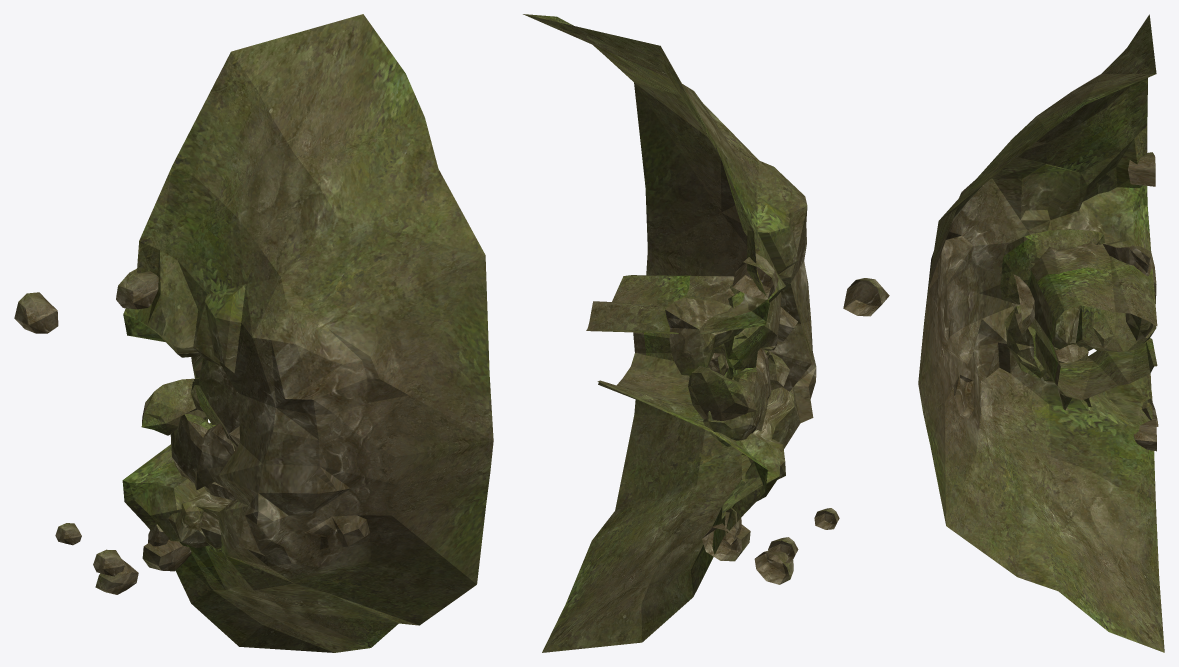
The model's file is juqing_fuben_395_zudang.obj.
The picture shows the model from 3 angles, left to right: view 1: azimuth 30°, elevation 25°; view 2: azimuth 150°, elevation 25°; view 3: azimuth 270°, elevation 25°; orthographic projection. The views are drawn at different scales.
Parts seen in each view (by area): view 1: huangjingu, juqing_fu6, juqing_fu4, juqing_fu2; view 2: huangjingu, juqing_fu5, juqing_fu6, juqing_fu2, juqing_fu4, juqing_fu3; view 3: huangjingu, juqing_fu6, juqing_fu4, juqing_fu3, juqing_fu5, juqing_fub, juqing_fu2.
Boxes of the visible parts, x1,y1,x2,y2 form: huangjingu: (14,14,493,652); juqing_fu6: (170,413,234,490); juqing_fu4: (194,358,239,446); juqing_fu2: (141,378,208,435); huangjingu: (523,14,889,652); juqing_fu5: (665,297,744,375); juqing_fu6: (703,348,770,446); juqing_fu2: (688,366,757,420); juqing_fu4: (724,285,781,369); juqing_fu3: (726,352,789,389); huangjingu: (918,14,1164,652); juqing_fu6: (1054,305,1156,352); juqing_fu4: (1000,229,1104,304); juqing_fu3: (1004,305,1046,378); juqing_fu5: (1103,244,1156,298); juqing_fub: (1042,344,1088,381); juqing_fu2: (1125,297,1155,340).
Bounding box in the file's own units: 606 × 1021 × 387.
Materials: 1 (1 with a texture image).
